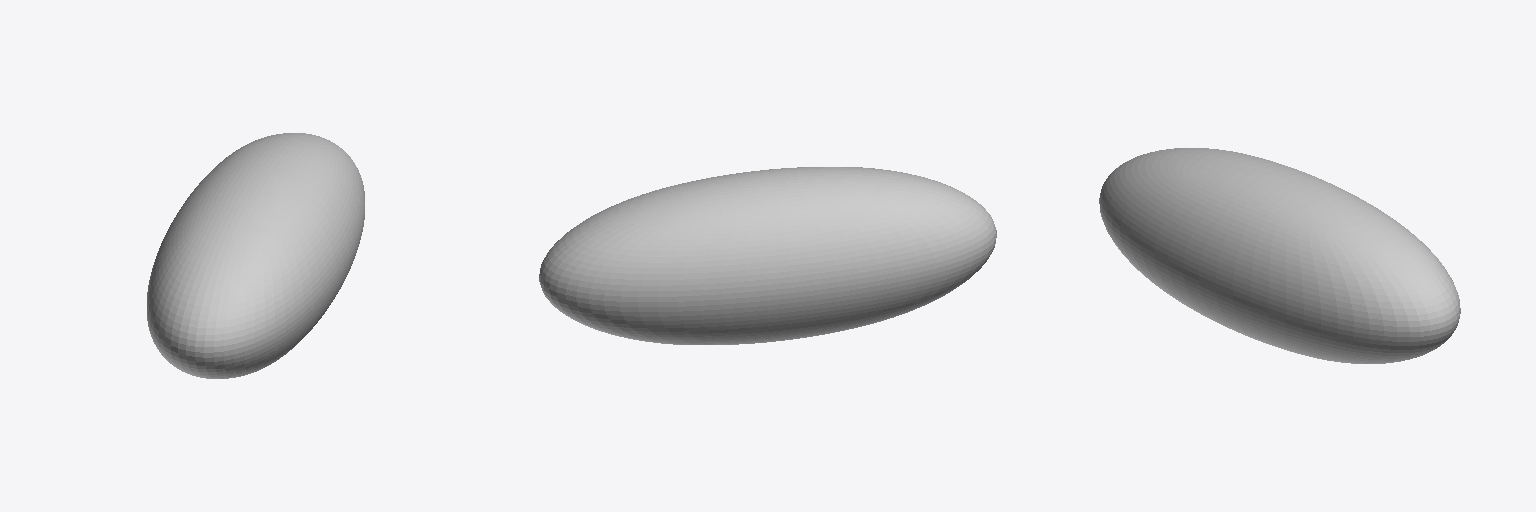
Rendered from nudo4-1.obj.
3 views of the same model, side by side, from view 1: azimuth 30°, elevation 25°; view 2: azimuth 150°, elevation 25°; view 3: azimuth 270°, elevation 25° (orthographic).
Parts seen in each view (by area): view 1: nudo4_1_Mesh; view 2: nudo4_1_Mesh; view 3: nudo4_1_Mesh.
Part boxes in pixels (x1,y1,x2,y2): nudo4_1_Mesh: (147,133,364,378); nudo4_1_Mesh: (539,167,996,344); nudo4_1_Mesh: (1099,148,1460,363).
Size of the model in its own units: 0.8203 by 0.3825 by 0.8203.